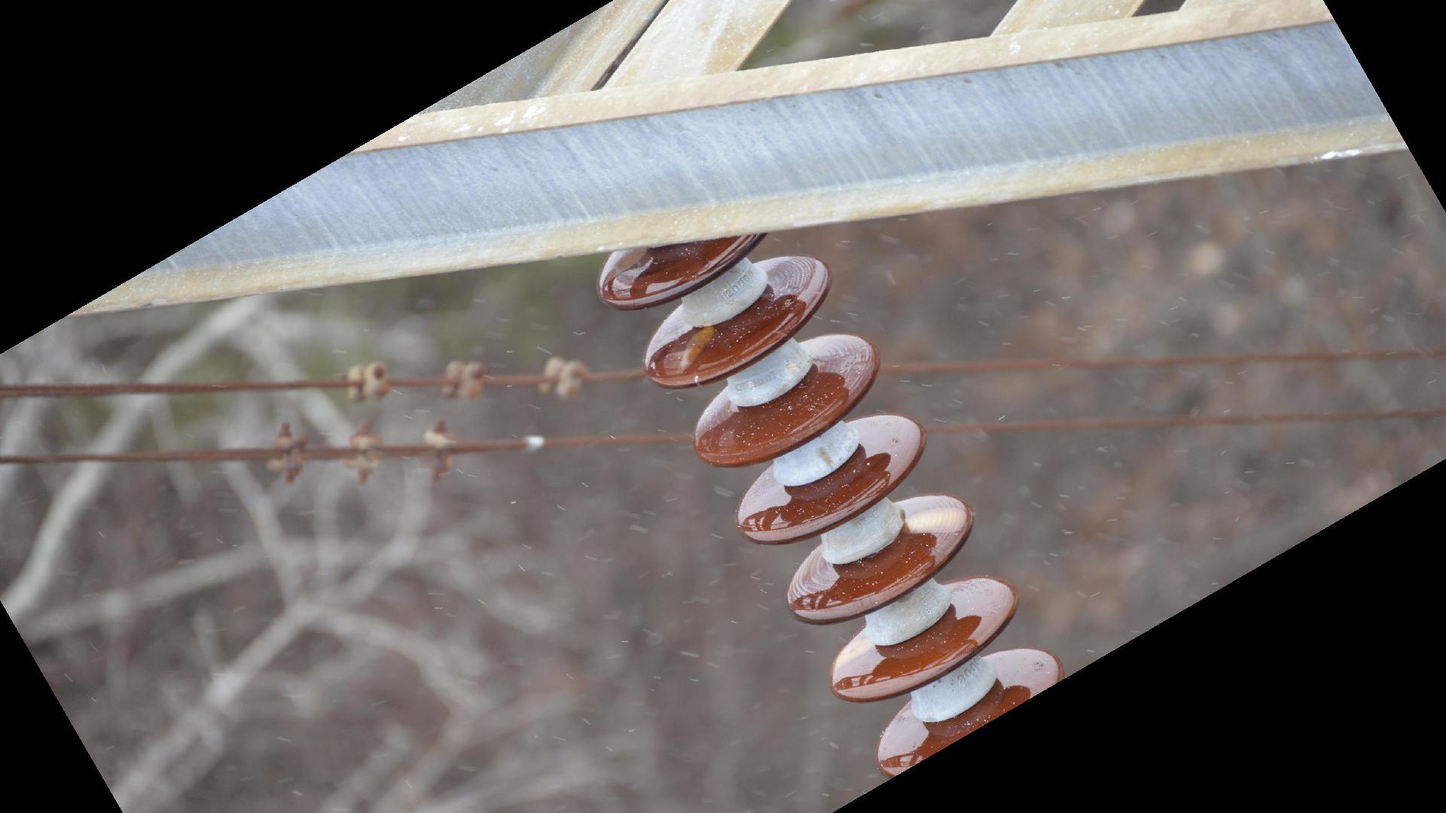insulator: (593, 238, 1075, 787)
insulator_flashover: (898, 504, 969, 540), (676, 323, 718, 377), (825, 634, 874, 679)
